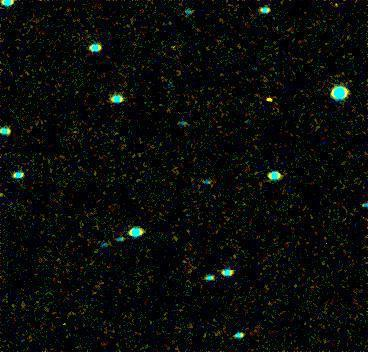star: (253, 83, 283, 113)
